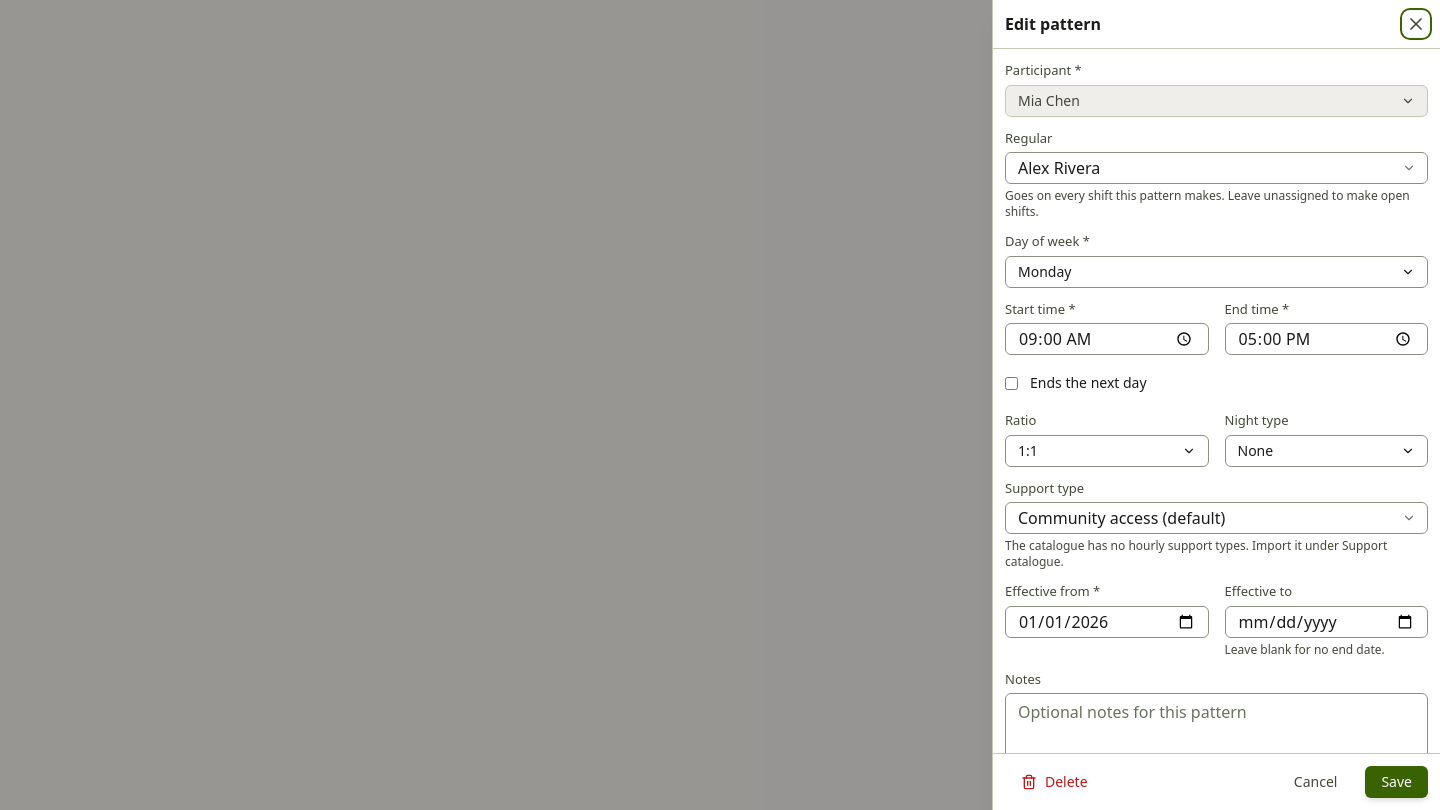
Test case: PatternSlideOver — the server's refusal reaches the user › falls back to the generic line for a network failure with no response
Step 1. Click the button "Save" → click(1397, 782), box x1=1365 y1=766 x2=1428 y2=798
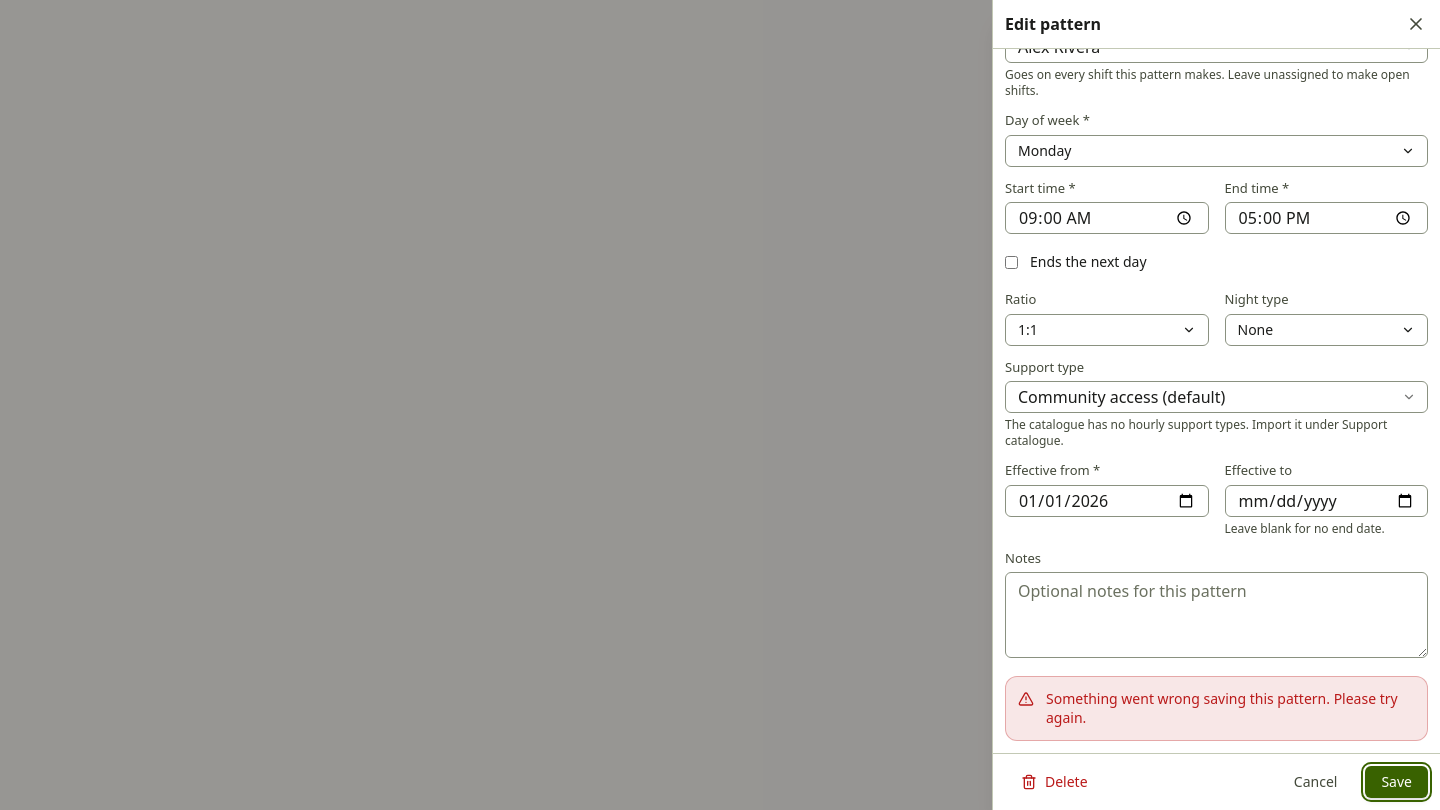
Expected: the text "Something went wrong saving this pattern. Please try again." is shown, x1=1046 y1=689 x2=1415 y2=728
